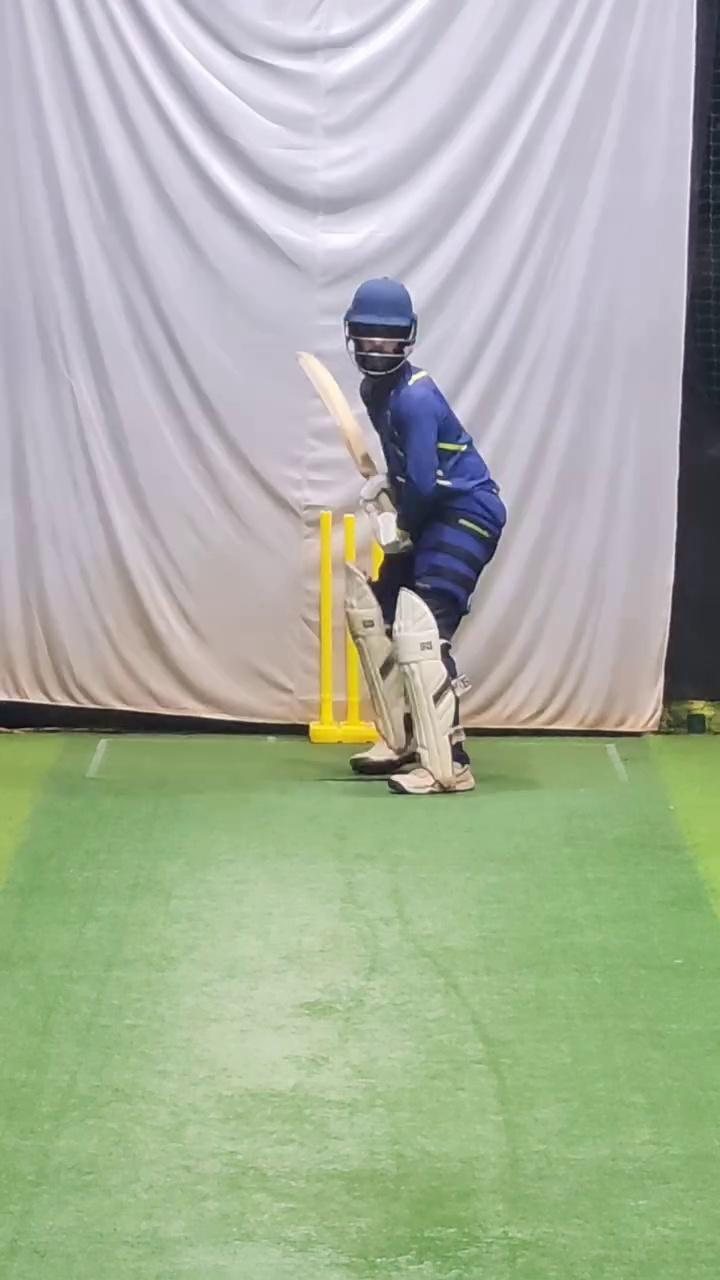bat: (290, 339, 380, 488)
